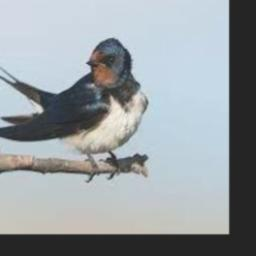Swallow: (0, 38, 147, 178)
